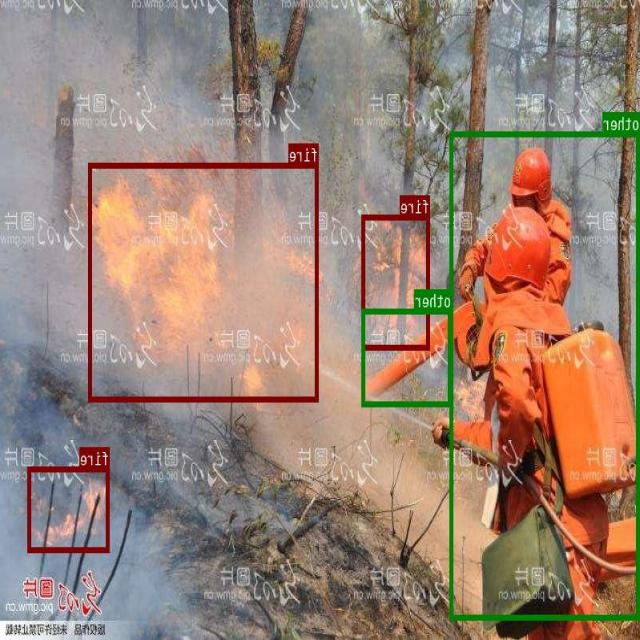fire: (90, 162, 319, 402), (362, 214, 430, 349), (28, 466, 110, 551)
other: (451, 131, 640, 619), (363, 309, 452, 406)
